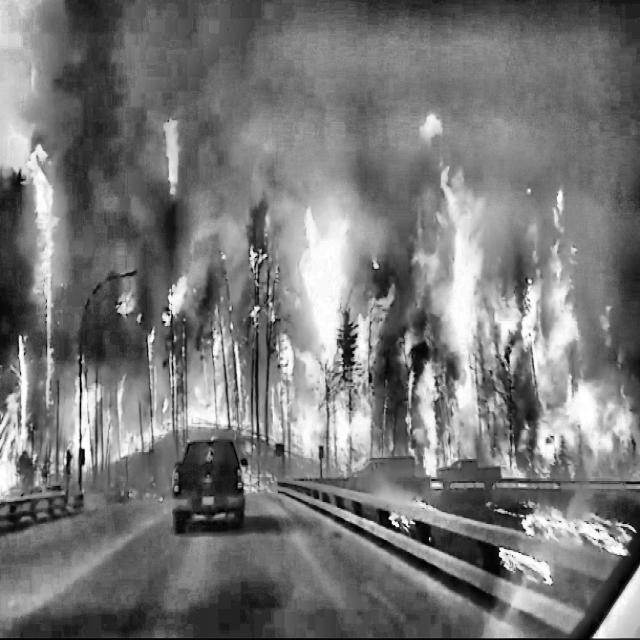fire: (0, 75, 631, 576)
